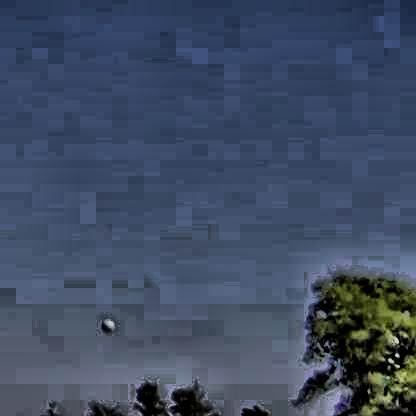golfball: (98, 314, 113, 330)
